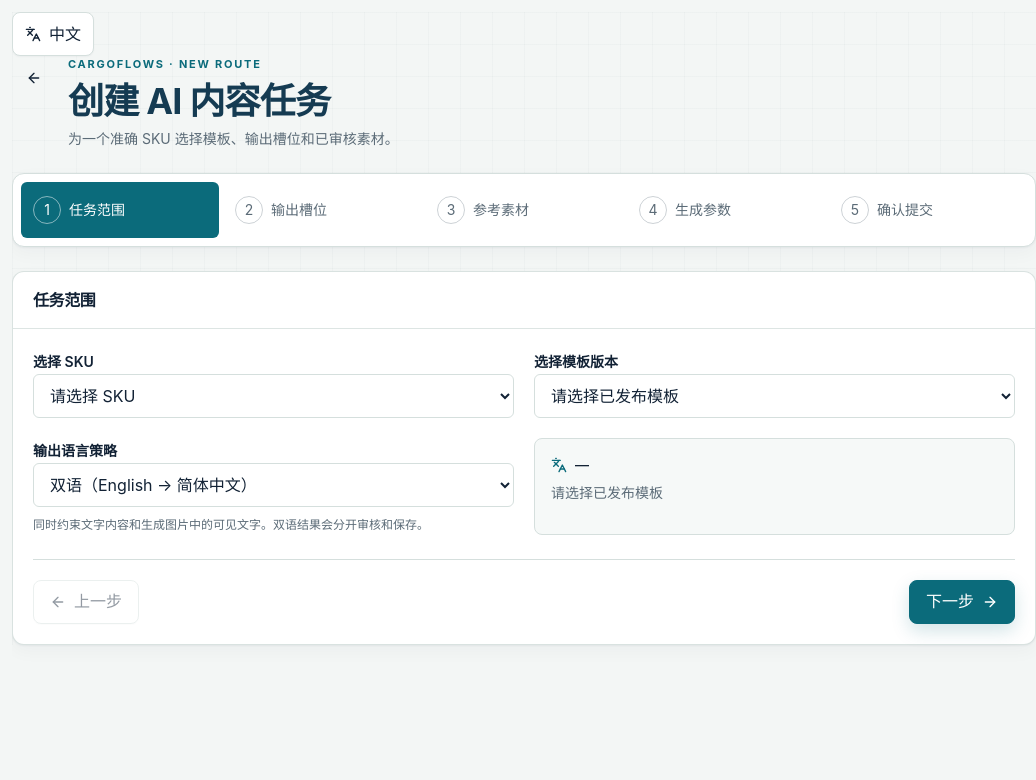
Test: NewAIJobPage › retranslates an active wizard error immediately
Check: the dropdown labelled "选择 SKU" is shown, box left=33, top=374, right=514, bottom=418
Click the button "下一步" at (962, 602), box left=909, top=580, right=1015, bottom=624
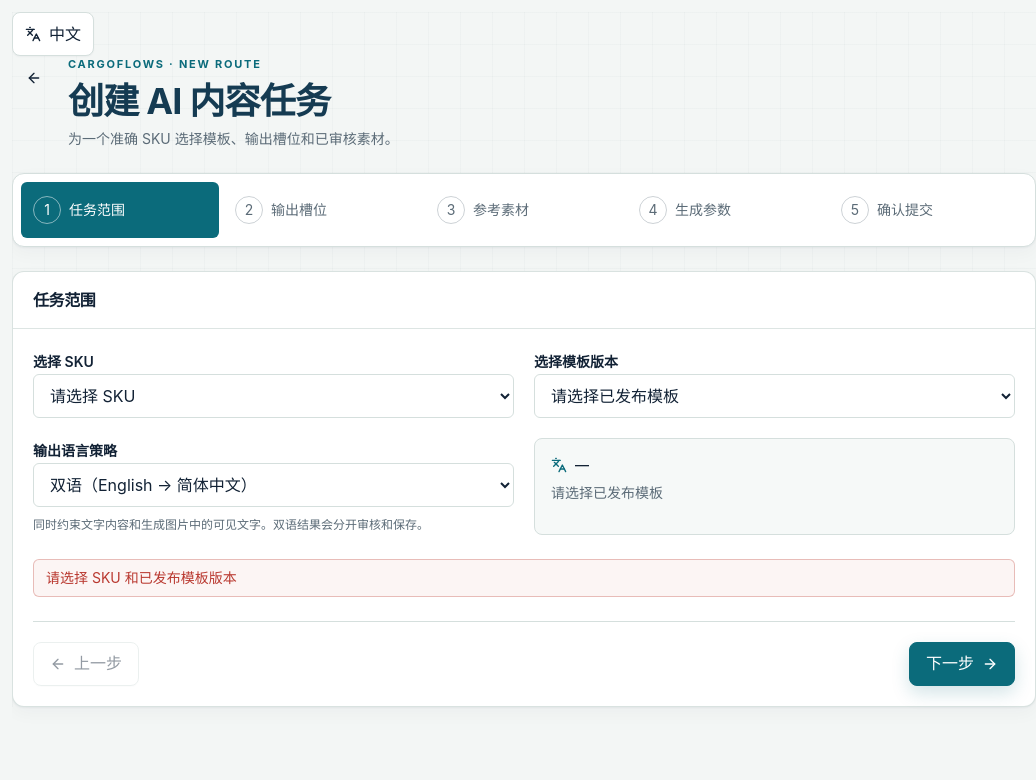
Check: the message shows "请选择 SKU", box left=46, top=569, right=237, bottom=586
Click the button with aria-label "语言" at (53, 34), box left=12, top=12, right=94, bottom=56
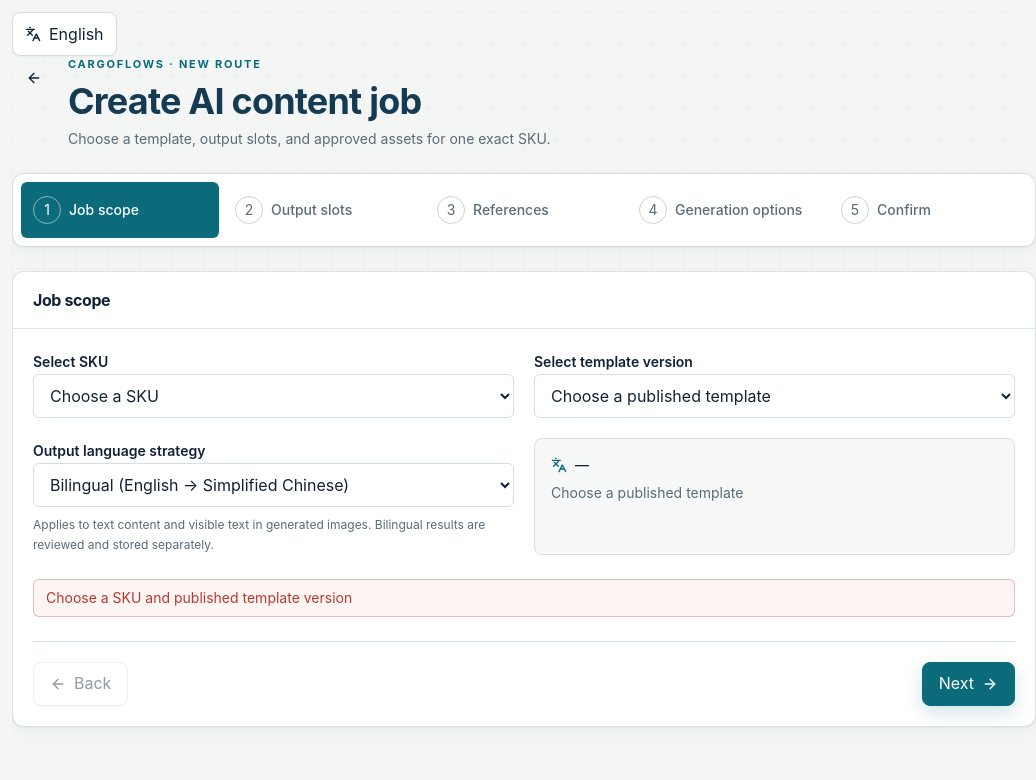
Check: the message shows "Choose a SKU", box left=46, top=589, right=352, bottom=606
